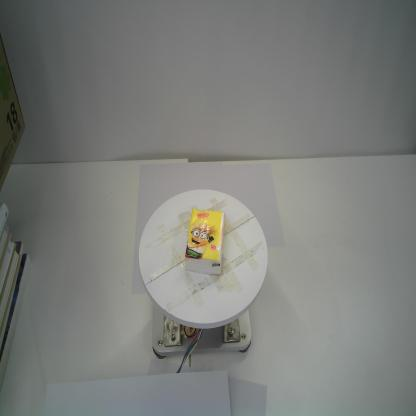Tissue: (184, 208, 226, 276)
